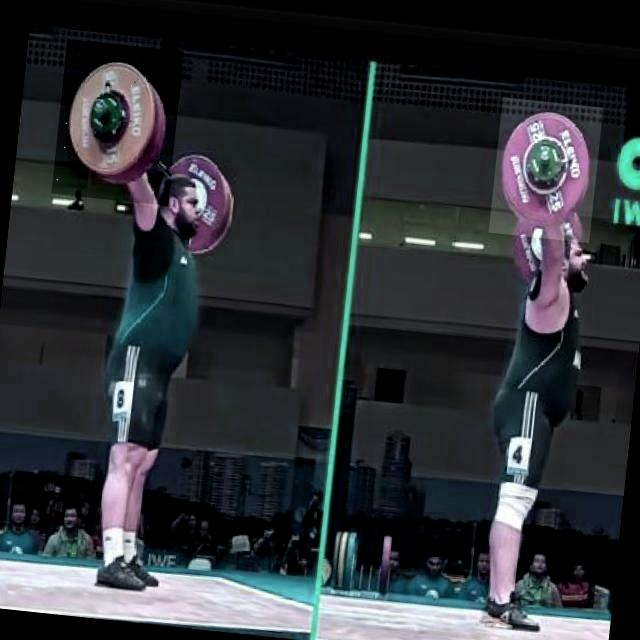barbell: (51, 40, 185, 206), (489, 98, 604, 243)
